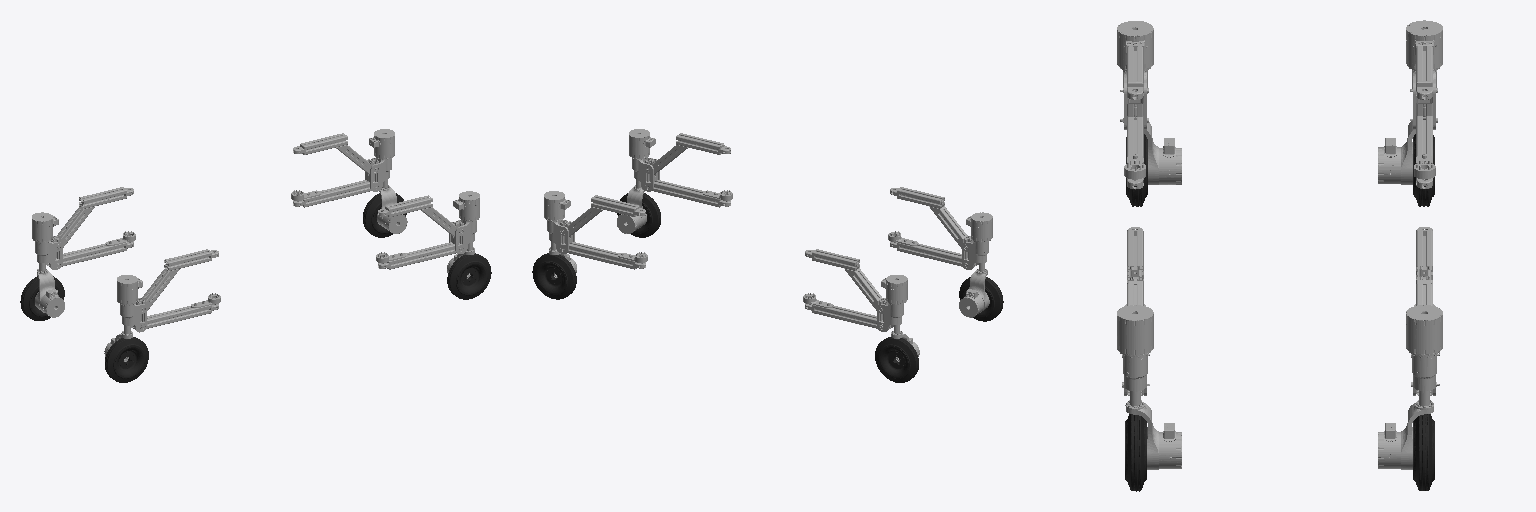
The robot description file, URDF, robot "swerve":
<?xml version="1.0" ?>
<!-- =================================================================================== -->
<!-- |    This document was autogenerated by xacro from swerve.urdf.xacro        | -->
<!-- |    EDITING THIS FILE BY HAND IS NOT RECOMMENDED                                 | -->
<!-- =================================================================================== -->
<robot name="swerve">
  <!-- Add joint friction? -->
  <material name="white">
    <color rgba="0.7 0.7 0.7 1"/>
  </material>
  <material name="black">
    <color rgba="0.2 0.2 0.2 1"/>
  </material>
  <link name="base_link">
  </link>
  <link name="mabi_attachment">
  </link>
  <joint name="base_link_to_mabi_attachment" type="fixed">
    <parent link="base_link"/>
    <child link="mabi_attachment"/>
    <origin xyz="0 0 -0.0"/>
  </joint>
  <link name="body">
    <visual>
      <origin rpy="0 0 0" xyz="0 0 0"/>
      <geometry>
        <mesh filename="package://swerve_description/meshes/body.stl" scale="0.001 0.001 0.001"/>
      </geometry>
      <material name="white"/>
    </visual>
    <collision>
      <geometry>
        <box size="0.902 0.800 0.280"/>
      </geometry>
    </collision>
    <inertial>
      <mass value="31.90123643"/>
      <origin xyz="0.000000562323 0 -0.003378692933"/>
      <inertia ixx="3.238567971" ixy="-0.0001169154562" ixz="-0.000000014560378" iyy="3.455603445" iyz="0.0005658238908" izz="6.052079931"/>
    </inertial>
  </link>
  <joint name="base_link_to_body" type="fixed">
    <parent link="base_link"/>
    <child link="body"/>
    <origin xyz="0 0 -0.140"/>
  </joint>
  <link name="arm_rl">
    <visual>
      <origin rpy="3.141592653589793 0 4.71238898038469" xyz="0 0 0"/>
      <geometry>
        <mesh filename="package://swerve_description/meshes/arm_rl.stl" scale="0.001 0.001 0.001"/>
      </geometry>
      <material name="white"/>
    </visual>
    <collision>
      <origin rpy="3.141592653589793 0 4.71238898038469" xyz="0.0 0.232 0.130"/>
      <geometry>
        <box size="0.464 0.090 0.280"/>
      </geometry>
    </collision>
    <inertial>
      <mass value="4.680353119"/>
      <origin xyz="-0.2874248231 -0.000025732551 -0.1327515781"/>
      <inertia ixx="0.03793414031" ixy="0.000004904354526" ixz="-0.003907344591" iyy="0.1401583096" iyz="-0.00001817130601" izz="0.1060310134"/>
    </inertial>
  </link>
  <joint name="left_back_brake_joint" type="fixed">
    <parent link="body"/>
    <child link="arm_rl"/>
    <origin rpy="3.141592653589793 0 4.71238898038469" xyz="-0.4031 0.353 0.1295"/>
  </joint>
  <link name="arm_rr">
    <visual>
      <origin rpy="3.141592653589793 0 1.5707963267948966" xyz="0 0 0"/>
      <geometry>
        <mesh filename="package://swerve_description/meshes/arm_rr.stl" scale="0.001 0.001 0.001"/>
      </geometry>
      <material name="white"/>
    </visual>
    <collision>
      <origin rpy="3.141592653589793 0 1.5707963267948966" xyz="0.0 -0.232 0.130"/>
      <geometry>
        <box size="0.464 0.090 0.280"/>
      </geometry>
    </collision>
    <inertial>
      <mass value="4.680353119"/>
      <origin xyz="-0.2874248231 0.000025732551 -0.1327515781"/>
      <inertia ixx="0.03793414031" ixy="-0.000004904354526" ixz="-0.003907344591" iyy="0.1401583096" iyz="-0.00001817130601" izz="0.1060310134"/>
    </inertial>
  </link>
  <joint name="right_back_brake_joint" type="fixed">
    <parent link="body"/>
    <child link="arm_rr"/>
    <origin rpy="3.141592653589793 0 1.5707963267948966" xyz="-0.4031 -0.353 0.1290"/>
  </joint>
  <link name="arm_fl">
    <visual>
      <origin rpy="3.141592653589793 0 4.71238898038469" xyz="0 0 0"/>
      <geometry>
        <mesh filename="package://swerve_description/meshes/arm_fl.stl" scale="0.001 0.001 0.001"/>
      </geometry>
      <material name="white"/>
    </visual>
    <collision>
      <origin rpy="3.141592653589793 0 4.71238898038469" xyz="0.0 -0.232 0.130"/>
      <geometry>
        <box size="0.464 0.090 0.280"/>
      </geometry>
    </collision>
    <inertial>
      <mass value="4.680353119"/>
      <origin xyz="0.2874248231 -0.000025732551 -0.1327515781"/>
      <inertia ixx="0.03793414031" ixy="0.000004904354526" ixz="0.003907344591" iyy="0.1401583096" iyz="0.00001817130601" izz="0.1060310134"/>
    </inertial>
  </link>
  <joint name="left_front_brake_joint" type="fixed">
    <parent link="body"/>
    <child link="arm_fl"/>
    <origin rpy="3.141592653589793 0 4.71238898038469" xyz="0.4031 0.353 0.1295"/>
  </joint>
  <link name="arm_fr">
    <visual>
      <origin rpy="3.141592653589793 0 1.5707963267948966" xyz="0 0 0"/>
      <geometry>
        <mesh filename="package://swerve_description/meshes/arm_fr.stl" scale="0.001 0.001 0.001"/>
      </geometry>
      <material name="white"/>
    </visual>
    <collision>
      <origin rpy="3.141592653589793 0 1.5707963267948966" xyz="0.0 0.232 0.130"/>
      <geometry>
        <box size="0.464 0.090 0.280"/>
      </geometry>
    </collision>
    <inertial>
      <mass value="4.680353119"/>
      <origin xyz="0.2874248231 0.000025732551 -0.1327515781"/>
      <inertia ixx="0.03793414031" ixy="-0.000004904354526" ixz="0.003907344591" iyy="0.1401583096" iyz="0.00001817130601" izz="0.1060310134"/>
    </inertial>
  </link>
  <joint name="right_front_brake_joint" type="fixed">
    <parent link="body"/>
    <child link="arm_fr"/>
    <origin rpy="3.141592653589793 0 1.5707963267948966" xyz="0.4031 -0.353 0.1290"/>
  </joint>
  <link name="leg_fl">
    <visual>
      <origin rpy="3.141592653589793 0 3.141592653589793" xyz="0 0 0"/>
      <geometry>
        <mesh filename="package://swerve_description/meshes/leg_fl.stl" scale="0.001 0.001 0.001"/>
      </geometry>
      <material name="white"/>
    </visual>
    <collision>
      <origin rpy="3.141592653589793 0 0" xyz="0 -0.045 0.166"/>
      <geometry>
        <box size="0.094 0.14 0.322"/>
      </geometry>
    </collision>
    <inertial>
      <mass value="2.953355758"/>
      <origin xyz="0.000025765612 -0.04067071313 -0.2120849525"/>
      <inertia ixx="0.02759751053" ixy="-0.000002760620178" ixz="-0.00000149396864" iyy="0.02582483119" iyz="0.006233490582" izz="0.005391981492"/>
    </inertial>
  </link>
  <joint name="left_front_steer_joint" type="revolute">
    <parent link="arm_fl"/>
    <child link="leg_fl"/>
    <origin rpy="0 0 1.5707963267948966" xyz="0 -0.4181 0.1244"/>
    <axis xyz="0 0 1"/>
    <limit effort="20.0" lower="-3.141" upper="3.141" velocity="0.5"/>
    <safety_controller k_position="100" k_velocity="100" soft_lower_limit="-3.0" soft_upper_limit="3.0"/>
    <joint_properties damping="1.0" friction="5.0"/>
  </joint>
  <transmission name="leg_fl_trans">
    <type>transmission_interface/SimpleTransmission</type>
    <actuator name="$leg_fl_steering">
      <mechanicalReduction>1</mechanicalReduction>
    </actuator>
    <joint name="left_front_steer_joint">
      <hardwareInterface>hardware_interface/PositionJointInterface</hardwareInterface>
    </joint>
  </transmission>
  <link name="leg_fr">
    <visual>
      <origin rpy="3.141592653589793 0 3.141592653589793" xyz="0 0 0"/>
      <geometry>
        <mesh filename="package://swerve_description/meshes/leg_fr.stl" scale="0.001 0.001 0.001"/>
      </geometry>
      <material name="white"/>
    </visual>
    <collision>
      <origin rpy="0 0 0" xyz="0 0.045 0.166"/>
      <geometry>
        <box size="0.094 0.14 0.322"/>
      </geometry>
    </collision>
    <inertial>
      <mass value="2.953355758"/>
      <origin xyz="0.000025765612 0.04067071313 -0.2120849525"/>
      <inertia ixx="0.02759751053" ixy="0.000002760620178" ixz="-0.00000149396864" iyy="0.02582483119" iyz="0.006233490582" izz="0.005391981492"/>
    </inertial>
  </link>
  <joint name="right_front_steer_joint" type="revolute">
    <parent link="arm_fr"/>
    <child link="leg_fr"/>
    <origin rpy="0 0 4.71238898038469" xyz="0 0.4181 0.1244"/>
    <axis xyz="0 0 1"/>
    <limit effort="20.0" lower="-3.141" upper="3.141" velocity="0.5"/>
    <safety_controller k_position="100" k_velocity="100" soft_lower_limit="-3.0" soft_upper_limit="3.0"/>
    <joint_properties damping="1.0" friction="5.0"/>
  </joint>
  <transmission name="leg_fr_trans">
    <type>transmission_interface/SimpleTransmission</type>
    <actuator name="$leg_fr_steering">
      <mechanicalReduction>1</mechanicalReduction>
    </actuator>
    <joint name="right_front_steer_joint">
      <hardwareInterface>hardware_interface/PositionJointInterface</hardwareInterface>
    </joint>
  </transmission>
  <link name="leg_rl">
    <visual>
      <origin rpy="3.141592653589793 0 0" xyz="0 0 0"/>
      <geometry>
        <mesh filename="package://swerve_description/meshes/leg_rl.stl" scale="0.001 0.001 0.001"/>
      </geometry>
      <material name="white"/>
    </visual>
    <collision>
      <origin rpy="3.141592653589793 0 0" xyz="0 0.045 0.166"/>
      <geometry>
        <box size="0.094 0.14 0.322"/>
      </geometry>
    </collision>
    <inertial>
      <mass value="2.953355758"/>
      <origin xyz="-0.000025765612 -0.04067071313 -0.2120849525"/>
      <inertia ixx="0.02759751053" ixy="-0.000002760620178" ixz="0.00000149396864" iyy="0.02582483119" iyz="-0.006233490582" izz="0.005391981492"/>
    </inertial>
  </link>
  <joint name="left_back_steer_joint" type="revolute">
    <parent link="arm_rl"/>
    <child link="leg_rl"/>
    <origin rpy="0 0 4.71238898038469" xyz="0 0.4181 0.1244"/>
    <axis xyz="0 0 1"/>
    <limit effort="20.0" lower="-3.141" upper="3.141" velocity="0.5"/>
    <safety_controller k_position="100" k_velocity="100" soft_lower_limit="-3.0" soft_upper_limit="3.0"/>
    <joint_properties damping="1.0" friction="5.0"/>
  </joint>
  <transmission name="leg_rl_trans">
    <type>transmission_interface/SimpleTransmission</type>
    <actuator name="$leg_rl_steering">
      <mechanicalReduction>1</mechanicalReduction>
    </actuator>
    <joint name="left_back_steer_joint">
      <hardwareInterface>hardware_interface/PositionJointInterface</hardwareInterface>
    </joint>
  </transmission>
  <link name="leg_rr">
    <visual>
      <origin rpy="0 3.141592653589793 3.141592653589793" xyz="0 0 0"/>
      <geometry>
        <mesh filename="package://swerve_description/meshes/leg_rr.stl" scale="0.001 0.001 0.001"/>
      </geometry>
      <material name="white"/>
    </visual>
    <collision>
      <origin rpy="0 3.141592653589793 3.141592653589793" xyz="0 -0.045 0.166"/>
      <geometry>
        <box size="0.094 0.14 0.322"/>
      </geometry>
    </collision>
    <inertial>
      <mass value="2.953355758"/>
      <origin xyz="-0.000025765612 0.04067071313 -0.2120849525"/>
      <inertia ixx="0.02759751053" ixy="0.000002760620178" ixz="0.00000149396864" iyy="0.02582483119" iyz="-0.006233490582" izz="0.005391981492"/>
    </inertial>
  </link>
  <joint name="right_back_steer_joint" type="revolute">
    <parent link="arm_rr"/>
    <child link="leg_rr"/>
    <origin rpy="0 0 1.5707963267948966" xyz="0 -0.4181 0.1244"/>
    <axis xyz="0 0 1"/>
    <limit effort="20.0" lower="-3.141" upper="3.141" velocity="0.5"/>
    <safety_controller k_position="100" k_velocity="100" soft_lower_limit="-3.0" soft_upper_limit="3.0"/>
    <joint_properties damping="1.0" friction="5.0"/>
  </joint>
  <transmission name="leg_rr_trans">
    <type>transmission_interface/SimpleTransmission</type>
    <actuator name="$leg_rr_steering">
      <mechanicalReduction>1</mechanicalReduction>
    </actuator>
    <joint name="right_back_steer_joint">
      <hardwareInterface>hardware_interface/PositionJointInterface</hardwareInterface>
    </joint>
  </transmission>
  <link name="wheel_fl">
    <visual>
      <origin rpy="1.5707963267948966 0 0" xyz="0 0 0"/>
      <geometry>
        <mesh filename="package://swerve_description/meshes/wheel_fl.stl" scale="0.001 0.001 0.001"/>
      </geometry>
      <material name="black"/>
    </visual>
    <collision>
      <origin rpy="3.141592653589793 0 0" xyz="0 -0.003 0"/>
      <geometry>
        <cylinder length="0.01" radius="0.100"/>
      </geometry>
    </collision>
    <inertial>
      <mass value="1.434561237"/>
      <origin xyz="0 -0.003225753823 0"/>
      <inertia ixx="0.003762436739" ixy="0" ixz="0" iyy="0.007084970164" iyz="0" izz="0.003762596989"/>
    </inertial>
  </link>
  <joint name="left_front_wheel_joint" type="continuous">
    <parent link="leg_fl"/>
    <child link="wheel_fl"/>
    <origin rpy="4.71238898038469 1.5707963267948966 0" xyz="0 0.0014 0.2746"/>
    <axis xyz="0 0 1"/>
    <limit effort="1000" velocity="5.0"/>
    <safety_controller k_position="100" k_velocity="100"/>
    <joint_properties damping="1.0" friction="5.0"/>
  </joint>
  <transmission name="wheel_fl_trans">
    <type>transmission_interface/SimpleTransmission</type>
    <actuator name="wheel_fl_drive">
      <mechanicalReduction>1</mechanicalReduction>
    </actuator>
    <joint name="left_front_wheel_joint">
      <hardwareInterface>hardware_interface/VelocityJointInterface</hardwareInterface>
    </joint>
  </transmission>
  <gazebo reference="wheel_fl">
    <mu1 value="0.7"/>
    <mu2 value="0.5"/>
    <kp value="300000.0"/>
    <kd value="600.0"/>
  </gazebo>
  <link name="wheel_fr">
    <visual>
      <origin rpy="-1.5707963267948966 0 0" xyz="0 0 0"/>
      <geometry>
        <mesh filename="package://swerve_description/meshes/wheel_fr.stl" scale="0.001 0.001 0.001"/>
      </geometry>
      <material name="black"/>
    </visual>
    <collision>
      <origin rpy="3.141592653589793 0 0" xyz="0 0.003 0"/>
      <geometry>
        <cylinder length="0.01" radius="0.100"/>
      </geometry>
    </collision>
    <inertial>
      <mass value="1.434561237"/>
      <origin xyz="0 0.003225753823 0"/>
      <inertia ixx="0.003762436739" ixy="0" ixz="0" iyy="0.007084970164" iyz="0" izz="0.003762596989"/>
    </inertial>
  </link>
  <joint name="right_front_wheel_joint" type="continuous">
    <parent link="leg_fr"/>
    <child link="wheel_fr"/>
    <origin rpy="1.5707963267948966 1.5707963267948966 0" xyz="0 -0.0013 0.2746"/>
    <axis xyz="0 0 1"/>
    <limit effort="1000" velocity="5.0"/>
    <safety_controller k_position="100" k_velocity="100"/>
    <joint_properties damping="1.0" friction="5.0"/>
  </joint>
  <transmission name="wheel_fr_trans">
    <type>transmission_interface/SimpleTransmission</type>
    <actuator name="wheel_fr_drive">
      <mechanicalReduction>1</mechanicalReduction>
    </actuator>
    <joint name="right_front_wheel_joint">
      <hardwareInterface>hardware_interface/VelocityJointInterface</hardwareInterface>
    </joint>
  </transmission>
  <gazebo reference="wheel_fr">
    <mu1 value="0.7"/>
    <mu2 value="0.5"/>
    <kp value="300000.0"/>
    <kd value="600.0"/>
  </gazebo>
  <link name="wheel_rl">
    <visual>
      <origin rpy="1.5707963267948966 0 0" xyz="0 0 0"/>
      <geometry>
        <mesh filename="package://swerve_description/meshes/wheel_rl.stl" scale="0.001 0.001 0.001"/>
      </geometry>
      <material name="black"/>
    </visual>
    <collision>
      <origin rpy="3.141592653589793 0 0" xyz="0 0.003 0"/>
      <geometry>
        <cylinder length="0.01" radius="0.100"/>
      </geometry>
    </collision>
    <inertial>
      <mass value="1.434561237"/>
      <origin xyz="0 -0.003225753823 0"/>
      <inertia ixx="0.003762436739" ixy="0" ixz="0" iyy="0.007084970164" iyz="0" izz="0.003762596989"/>
    </inertial>
  </link>
  <joint name="left_back_wheel_joint" type="continuous">
    <parent link="leg_rl"/>
    <child link="wheel_rl"/>
    <origin rpy="1.5707963267948966 1.5707963267948966 0" xyz="0 -0.0013 0.2746"/>
    <axis xyz="0 0 1"/>
    <limit effort="1000" velocity="5.0"/>
    <safety_controller k_position="100" k_velocity="100"/>
    <joint_properties damping="1.0" friction="5.0"/>
  </joint>
  <transmission name="wheel_rl_trans">
    <type>transmission_interface/SimpleTransmission</type>
    <actuator name="wheel_rl_drive">
      <mechanicalReduction>1</mechanicalReduction>
    </actuator>
    <joint name="left_back_wheel_joint">
      <hardwareInterface>hardware_interface/VelocityJointInterface</hardwareInterface>
    </joint>
  </transmission>
  <gazebo reference="wheel_rl">
    <mu1 value="0.7"/>
    <mu2 value="0.5"/>
    <kp value="300000.0"/>
    <kd value="600.0"/>
  </gazebo>
  <link name="wheel_rr">
    <visual>
      <origin rpy="4.71238898038469 0 0" xyz="0 0 0"/>
      <geometry>
        <mesh filename="package://swerve_description/meshes/wheel_rr.stl" scale="0.001 0.001 0.001"/>
      </geometry>
      <material name="black"/>
    </visual>
    <collision>
      <origin rpy="3.141592653589793 0 0" xyz="0 0.003 0"/>
      <geometry>
        <cylinder length="0.01" radius="0.100"/>
      </geometry>
    </collision>
    <inertial>
      <mass value="1.434561237"/>
      <origin xyz="0 0.003225753823 0"/>
      <inertia ixx="0.003762436739" ixy="0" ixz="0" iyy="0.007084970164" iyz="0" izz="0.003762596989"/>
    </inertial>
  </link>
  <joint name="right_back_wheel_joint" type="continuous">
    <parent link="leg_rr"/>
    <child link="wheel_rr"/>
    <origin rpy="4.71238898038469 1.5707963267948966 0" xyz="0 -0.0014 0.2746"/>
    <axis xyz="0 0 1"/>
    <limit effort="1000" velocity="5.0"/>
    <safety_controller k_position="100" k_velocity="100"/>
    <joint_properties damping="1.0" friction="5.0"/>
  </joint>
  <transmission name="wheel_rr_trans">
    <type>transmission_interface/SimpleTransmission</type>
    <actuator name="wheel_rr_drive">
      <mechanicalReduction>1</mechanicalReduction>
    </actuator>
    <joint name="right_back_wheel_joint">
      <hardwareInterface>hardware_interface/VelocityJointInterface</hardwareInterface>
    </joint>
  </transmission>
  <gazebo reference="wheel_rr">
    <mu1 value="0.7"/>
    <mu2 value="0.5"/>
    <kp value="300000.0"/>
    <kd value="600.0"/>
  </gazebo>
  <gazebo>
    <plugin filename="libgazebo_ros_control.so" name="gazebo_ros_control">
      <robotNamespace>/swerve</robotNamespace>
    </plugin>
  </gazebo>
</robot>

--- Facts derived from the render (not from the file) ---
Views: 3 orthographic renders of the robot side by side, from view 1: azimuth 30°, elevation 25°; view 2: azimuth 150°, elevation 25°; view 3: azimuth 270°, elevation 25°.
Robot: swerve — 15 links, 14 joints (4 revolute, 4 continuous, 6 fixed); root link base_link; default pose: every joint at zero.
Links seen in each view (by area): view 1: arm_rl, arm_rr, arm_fr, arm_fl, wheel_fr, wheel_rr, leg_rl, wheel_rl, leg_fl, wheel_fl; view 2: arm_rl, arm_rr, arm_fl, arm_fr, wheel_fl, wheel_rl, leg_rr, wheel_rr, leg_fr, wheel_fr; view 3: arm_rr, arm_rl, arm_fr, arm_fl, leg_fl, leg_fr, leg_rl, wheel_fl, wheel_fr, leg_rr, wheel_rr, wheel_rl.
Link boxes in pixels (x1,y1,x2,y2): arm_rl: [32, 187, 135, 269]; arm_rr: [117, 249, 220, 332]; arm_fr: [376, 191, 479, 269]; arm_fl: [291, 129, 394, 207]; wheel_fr: [447, 253, 491, 299]; wheel_rr: [105, 337, 148, 382]; leg_rl: [35, 244, 64, 317]; wheel_rl: [20, 276, 64, 320]; leg_fl: [377, 180, 407, 233]; wheel_fl: [363, 193, 406, 237]; arm_rl: [803, 249, 907, 331]; arm_rr: [888, 187, 992, 269]; arm_fl: [544, 191, 647, 269]; arm_fr: [629, 129, 732, 207]; wheel_fl: [532, 253, 576, 299]; wheel_rl: [875, 337, 918, 382]; leg_rr: [959, 252, 989, 317]; wheel_rr: [959, 277, 1003, 321]; leg_fr: [617, 180, 646, 233]; wheel_fr: [617, 193, 660, 237]; arm_rr: [1117, 21, 1153, 189]; arm_rl: [1406, 20, 1442, 188]; arm_fr: [1117, 227, 1153, 395]; arm_fl: [1406, 227, 1442, 395]; leg_fl: [1378, 358, 1433, 469]; leg_fr: [1125, 358, 1181, 469]; leg_rl: [1378, 121, 1415, 184]; wheel_fl: [1413, 414, 1434, 490]; wheel_fr: [1125, 414, 1146, 491]; leg_rr: [1144, 122, 1181, 184]; wheel_rr: [1126, 134, 1147, 206]; wheel_rl: [1413, 134, 1434, 206].
Size in the robot's own frame: 1.84 by 0.796 by 0.5103 metres.
Meshes: 13 distinct files referenced, 12 mesh visuals loaded (12 binary STL); not drawn: 1 (reference not matched to a file when rendering).